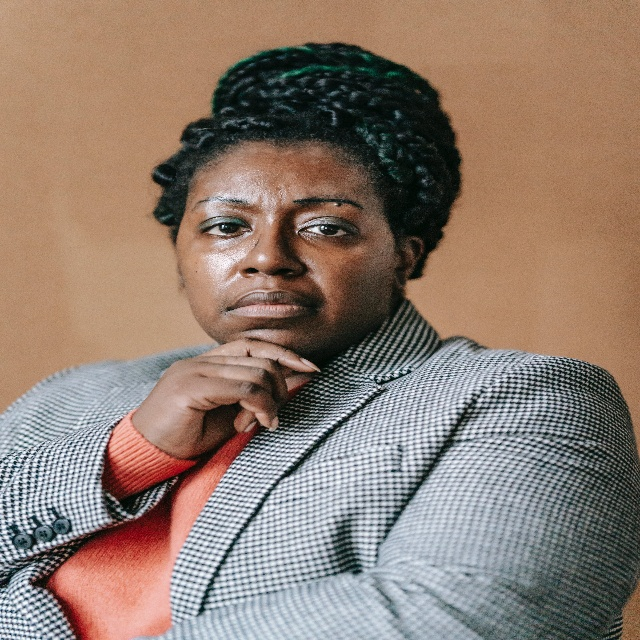Sin_guantes: (131, 338, 320, 460)
